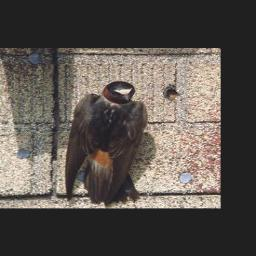Swallow: (62, 80, 147, 207)
